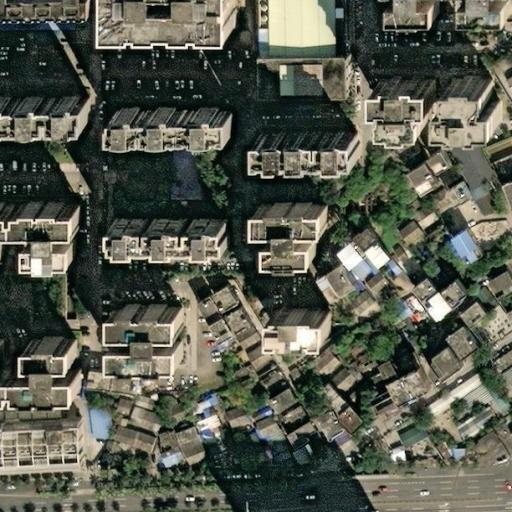building: (0, 420, 95, 469), (0, 206, 78, 261), (267, 0, 342, 55), (0, 343, 79, 394), (243, 54, 332, 97), (108, 307, 178, 361), (259, 200, 326, 252), (110, 0, 234, 28), (112, 104, 232, 131), (115, 220, 229, 247), (372, 75, 430, 128), (439, 78, 495, 130), (258, 131, 357, 159), (0, 103, 96, 128), (167, 144, 203, 200), (267, 390, 303, 431), (266, 307, 322, 333), (470, 211, 512, 243), (439, 325, 472, 359), (451, 232, 483, 267), (403, 165, 434, 196), (144, 427, 174, 458), (321, 366, 351, 396), (426, 346, 455, 377), (201, 285, 230, 315), (201, 317, 229, 348), (416, 290, 445, 319), (485, 272, 512, 303), (394, 371, 422, 400), (283, 423, 313, 450), (415, 250, 441, 281), (447, 413, 477, 439), (478, 383, 504, 413), (215, 405, 241, 433), (315, 425, 341, 452), (406, 208, 433, 234), (338, 409, 364, 435), (237, 342, 263, 368), (259, 428, 284, 455), (390, 423, 418, 447), (168, 425, 196, 449), (174, 440, 202, 464), (386, 355, 412, 380), (406, 277, 432, 302), (188, 295, 212, 322), (439, 282, 464, 307), (466, 320, 490, 346), (237, 430, 260, 457), (456, 304, 481, 328), (247, 413, 272, 437), (217, 308, 241, 333), (364, 245, 388, 270), (442, 181, 466, 205), (392, 222, 416, 246), (254, 371, 279, 394), (325, 281, 347, 307), (422, 155, 446, 177), (342, 294, 366, 316), (104, 426, 129, 447), (356, 270, 379, 292), (328, 396, 350, 418), (188, 417, 209, 440), (373, 365, 394, 387), (497, 180, 512, 210), (361, 391, 386, 409), (182, 393, 208, 410), (253, 435, 271, 459), (365, 398, 390, 415), (360, 371, 380, 392), (285, 447, 305, 467), (210, 428, 227, 451), (337, 386, 357, 405), (125, 431, 144, 451), (424, 359, 440, 382), (24, 28, 50, 42), (381, 380, 400, 398), (279, 366, 297, 385), (301, 438, 319, 457), (164, 419, 186, 434), (153, 452, 171, 470), (468, 198, 485, 216), (386, 391, 404, 407), (499, 73, 512, 94), (321, 385, 337, 402), (196, 436, 210, 455), (424, 229, 440, 245), (265, 451, 282, 466), (384, 246, 399, 263), (477, 194, 491, 211), (203, 434, 216, 452), (430, 446, 444, 461), (166, 449, 179, 465), (297, 444, 309, 460), (503, 310, 512, 330), (397, 296, 410, 309), (381, 262, 393, 275), (445, 447, 457, 459), (191, 406, 202, 419), (245, 424, 255, 438), (275, 458, 287, 469), (360, 263, 370, 274), (254, 406, 263, 416), (257, 450, 264, 459), (507, 210, 512, 220)
